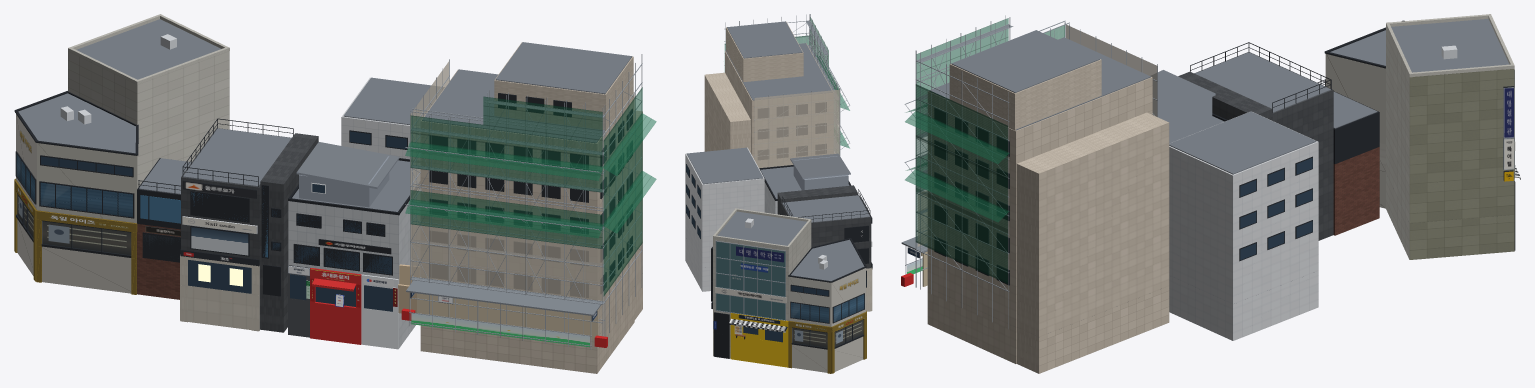
File: place_라쿵푸마라탕.glb
The picture shows the model from 3 angles, left to right: view 1: azimuth 30°, elevation 25°; view 2: azimuth 150°, elevation 25°; view 3: azimuth 270°, elevation 25°; orthographic projection. The views are drawn at different scales.
Parts seen in each view (by area): view 1: b1_HojinScaffolding, B1_Main_6F_Mass, B6_Main_4F_Mass, Merged_B1_SteelScaffolding, B1_GreenNet_Front_1, Merged_B1_Roof, B5_Wedge_MainMass, Merged_B1_Windows, B5_Facet_SW, B1_GreenNet_Front_0, b2_LakungfuMaratang, B1_Main_Basement_B1 (+40 smaller); view 2: b1_HojinScaffolding, b6_DaemyeongTripleA, Merged_B1_Roof, B2_Rear_Bodybom_Annex, B5_Wedge_MainMass, B1_Main_6F_Mass, B6_Main_4F_Mass, B1_Rear_Mass, Merged_B2_Roof, B5_Facet_NNW, B1_Step7F_Penthouse, Merged_B3_Roof (+27 smaller); view 3: B1_Rear_Mass, B6_Main_4F_Mass, B2_Rear_Bodybom_Annex, B1_Main_6F_Mass, b1_HojinScaffolding, Merged_B1_Roof, B1_Rear_Basement_B1, B1_Step7F_Penthouse, B2_Rear_Bodybom_Basement_B1, Merged_B2_Roof, Merged_B1_SteelScaffolding, B6_Main_Basement_B1 (+20 smaller).
Part boxes in pixels (x1,y1,x2,y2): b1_HojinScaffolding: (405, 61, 656, 300); B1_Main_6F_Mass: (420, 70, 634, 335); B6_Main_4F_Mass: (68, 19, 229, 188); Merged_B1_SteelScaffolding: (405, 54, 642, 336); B1_GreenNet_Front_1: (410, 115, 602, 192); Merged_B1_Roof: (422, 42, 632, 143); B5_Wedge_MainMass: (16, 93, 137, 243); Merged_B1_Windows: (429, 93, 632, 297); B5_Facet_SW: (36, 156, 137, 294); B1_GreenNet_Front_0: (410, 190, 602, 248); b2_LakungfuMaratang: (288, 142, 399, 311); B1_Main_Basement_B1: (420, 286, 634, 373); b1_HojinScaffolding: (724, 35, 849, 168); b6_DaemyeongTripleA: (711, 241, 787, 334); Merged_B1_Roof: (726, 21, 832, 100); B2_Rear_Bodybom_Annex: (685, 147, 764, 267); B5_Wedge_MainMass: (788, 239, 865, 341); B1_Main_6F_Mass: (725, 43, 832, 167); B6_Main_4F_Mass: (713, 211, 811, 334); B1_Rear_Mass: (704, 72, 750, 152); Merged_B2_Roof: (686, 147, 849, 198); B5_Facet_NNW: (788, 285, 831, 373); B1_Step7F_Penthouse: (726, 21, 803, 82); Merged_B3_Roof: (782, 195, 869, 222); B1_Rear_Mass: (1016, 112, 1169, 336); B6_Main_4F_Mass: (1386, 19, 1514, 223); B2_Rear_Bodybom_Annex: (1169, 112, 1318, 304); B1_Main_6F_Mass: (927, 77, 1152, 327); b1_HojinScaffolding: (905, 24, 1157, 283); Merged_B1_Roof: (929, 30, 1150, 130); B1_Rear_Basement_B1: (1016, 286, 1169, 373); B1_Step7F_Penthouse: (949, 59, 1101, 130); B2_Rear_Bodybom_Basement_B1: (1169, 271, 1318, 340); Merged_B2_Roof: (1169, 111, 1316, 174); Merged_B1_SteelScaffolding: (904, 15, 1158, 328); B6_Main_Basement_B1: (1386, 173, 1514, 259).
Size of the model in its own units: 44.38 by 26.8 by 55.
90 materials, 61 textured.
